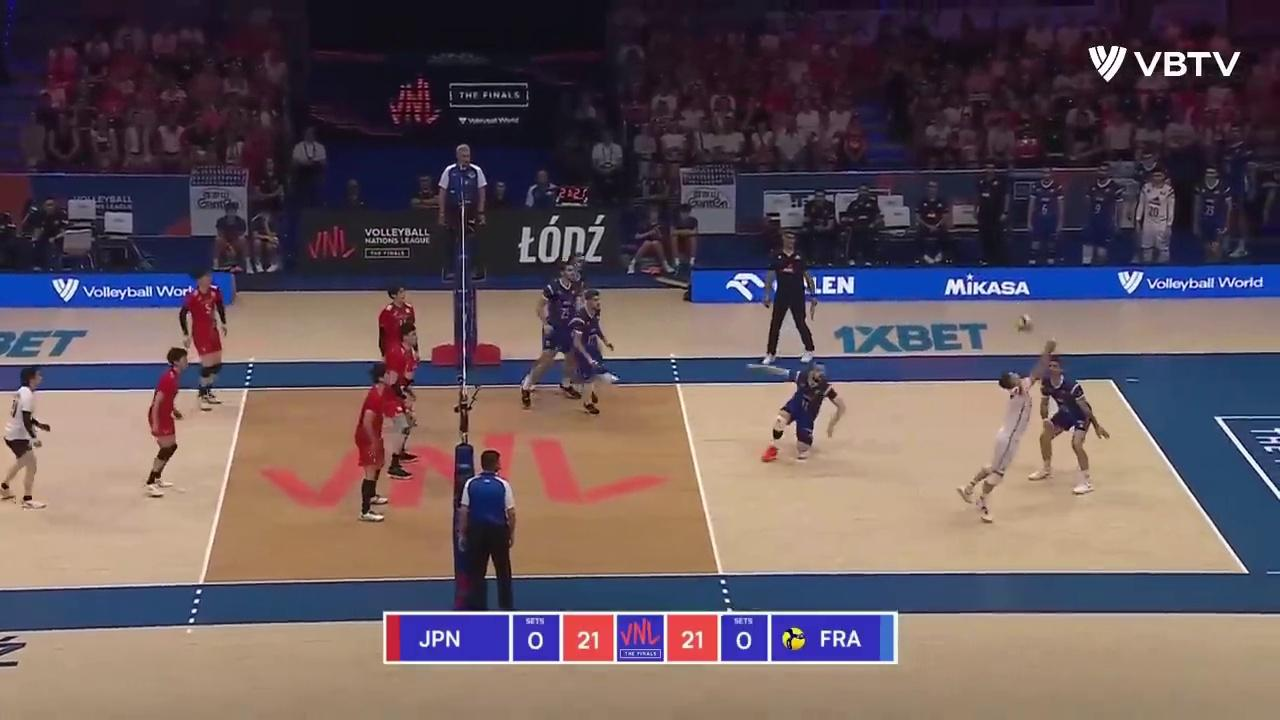ball: (1017, 313, 1032, 332)
